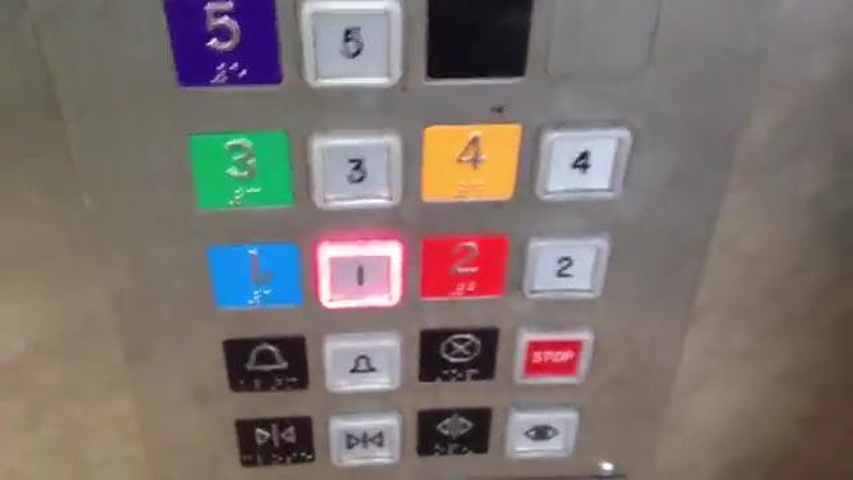1: (313, 235, 407, 312), (207, 243, 304, 309)
2: (415, 228, 513, 305), (524, 234, 611, 299)
3: (186, 130, 297, 211), (306, 127, 404, 213)
4: (421, 124, 522, 202), (533, 128, 632, 200)
5: (161, 1, 285, 88), (295, 1, 404, 87)
alarm: (222, 331, 313, 394), (323, 333, 403, 392)
close: (233, 411, 319, 470), (329, 414, 401, 465)
empty: (420, 1, 535, 85), (547, 1, 661, 76)
open: (412, 402, 495, 460), (505, 410, 579, 457)
stop: (414, 323, 501, 385)
text_stop: (514, 327, 595, 385)
